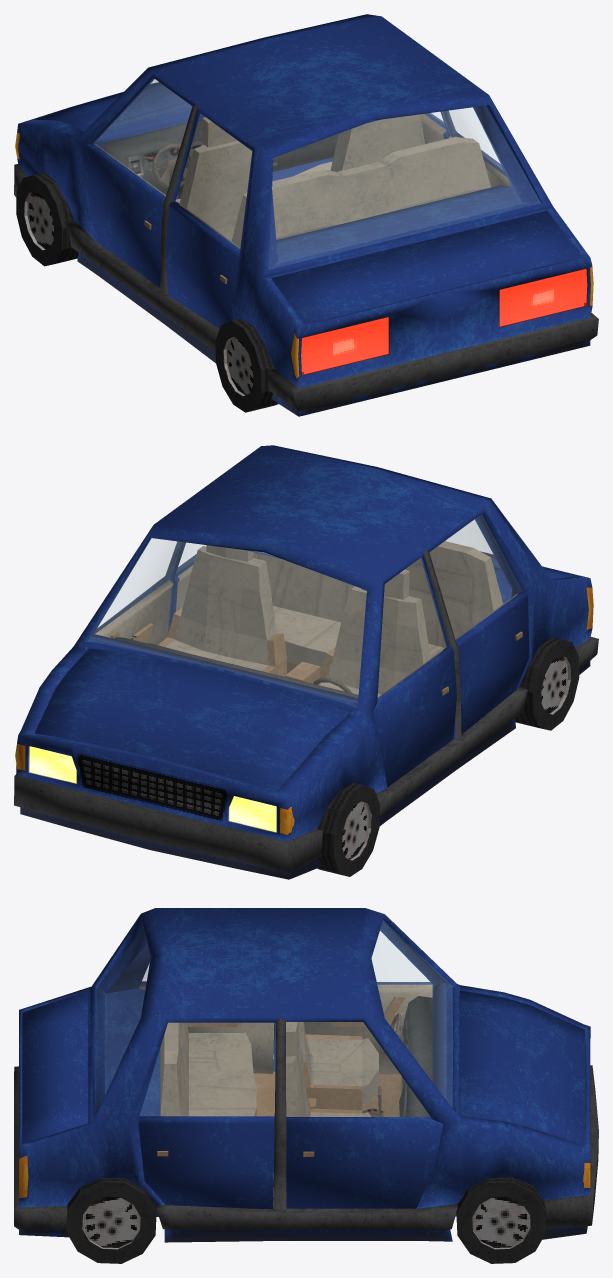
Rendered from retro_car.glb.
3 renders of one model, top to bottom at view 1: azimuth 30°, elevation 25°; view 2: azimuth 150°, elevation 25°; view 3: azimuth 270°, elevation 25°, orthographic. The views are drawn at different scales.
Visible parts, largest first — view 1: Car_Base, trunk, L_Door_Front, L_Door_Back, WheelFL, WheelRL, car_hood, R_Door_Back, R_Door_Front, Steering_wheel; view 2: Car_Base, car_hood, L_Door_Front, L_Door_Back, R_Door_Front, WheelFL, WheelRL, R_Door_Back; view 3: Car_Base, R_Door_Front, R_Door_Back, car_hood, trunk, WheelFR, WheelRR, L_Door_Front, L_Door_Back.
Boxes of the visible parts, x1,y1,x2,y2 form: Car_Base: [14, 14, 598, 416]; trunk: [271, 211, 580, 324]; L_Door_Front: [82, 79, 191, 287]; L_Door_Back: [165, 114, 251, 328]; WheelFL: [16, 172, 78, 266]; WheelRL: [215, 318, 278, 412]; car_hood: [34, 82, 185, 131]; R_Door_Back: [442, 108, 511, 187]; R_Door_Front: [420, 112, 447, 143]; Steering_wheel: [152, 144, 191, 187]; Car_Base: [14, 445, 598, 879]; car_hood: [34, 648, 349, 792]; L_Door_Front: [373, 558, 456, 787]; L_Door_Back: [430, 514, 529, 734]; R_Door_Front: [94, 538, 178, 644]; WheelFL: [317, 782, 379, 876]; WheelRL: [515, 637, 579, 730]; R_Door_Back: [172, 543, 205, 618]; Car_Base: [14, 908, 598, 1242]; R_Door_Front: [286, 1022, 443, 1208]; R_Door_Back: [138, 1023, 275, 1208]; car_hood: [459, 990, 584, 1145]; trunk: [22, 991, 88, 1144]; WheelFR: [456, 1176, 546, 1263]; WheelRR: [66, 1177, 156, 1263]; L_Door_Front: [304, 931, 432, 1074]; L_Door_Back: [139, 966, 274, 1073].
Size of the model in its own units: 2.21 by 1.6 by 3.6.
Materials: 2 (1 with a texture image).
